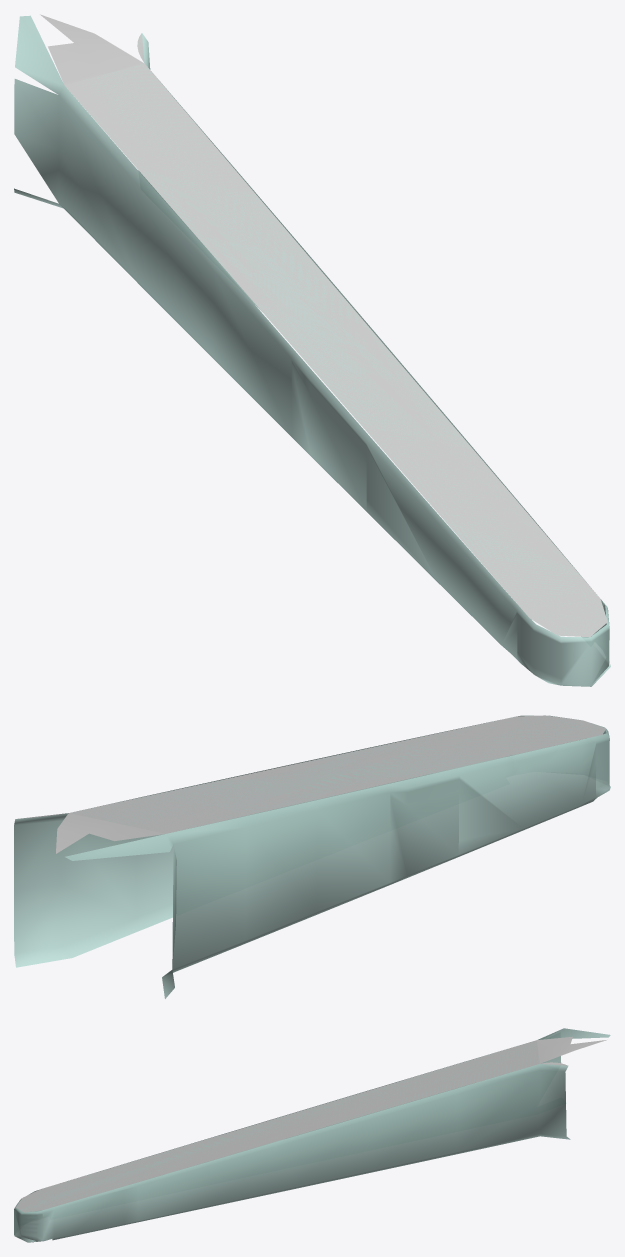
The picture shows the model from 3 angles, top to bottom: view 1: azimuth 30°, elevation 25°; view 2: azimuth 150°, elevation 25°; view 3: azimuth 270°, elevation 25°; orthographic projection. The views are drawn at different scales.
Bounding box in the file's own units: 0.0923 × 0.1869 × 0.5517.
